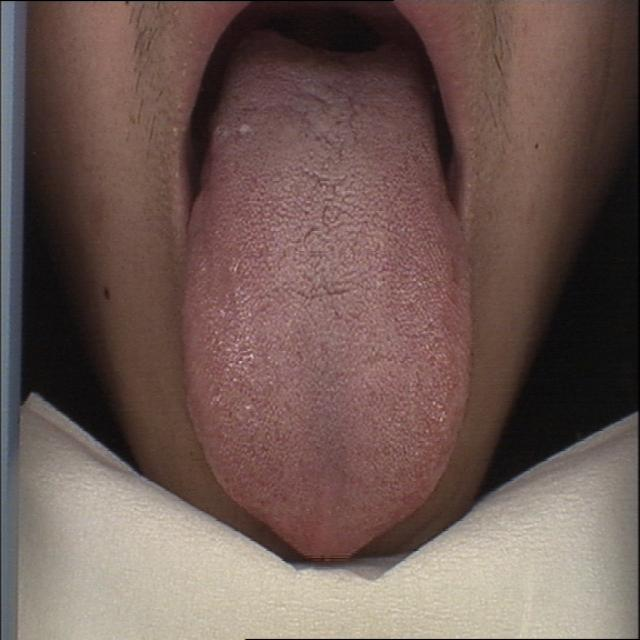tongue: (179, 44, 479, 566)
